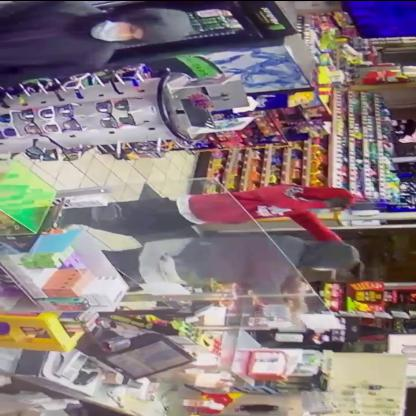Pistol: (345, 256, 370, 284)
